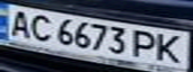3: (106, 25, 130, 56)
6: (51, 16, 75, 47), (72, 19, 93, 51)
7: (87, 21, 109, 53)
A: (3, 7, 36, 38)
C: (24, 11, 57, 43)
K: (151, 30, 190, 64)
P: (127, 28, 160, 60)
